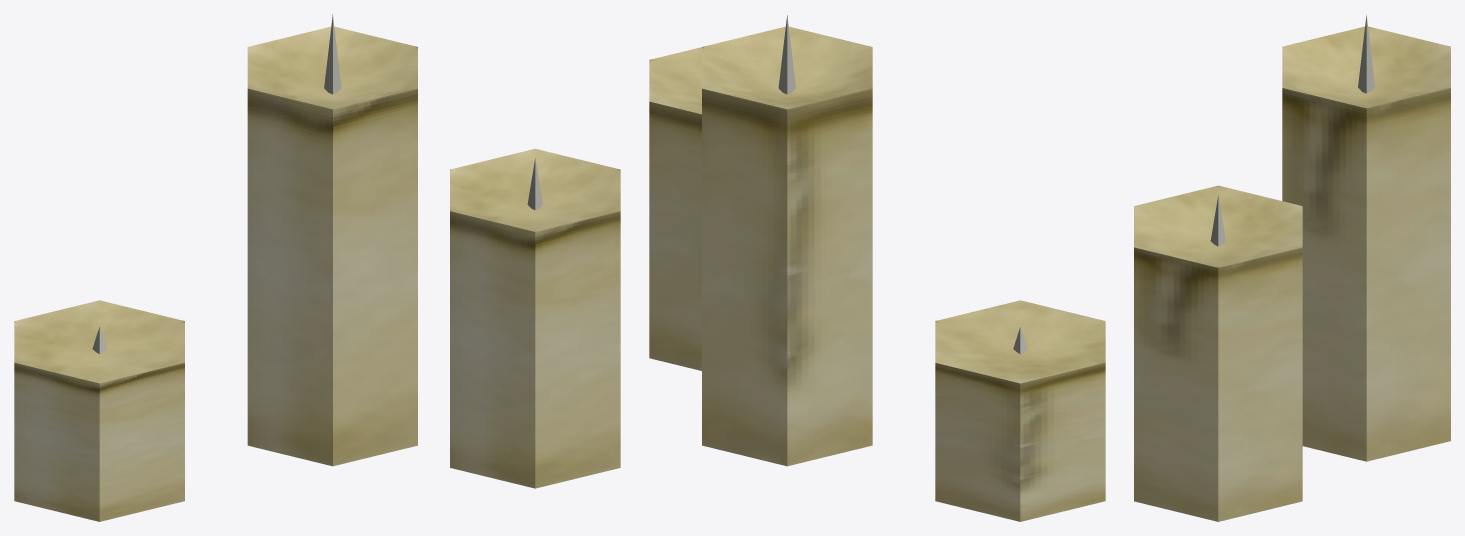
Rendered from candle.fbx.
3 renders of one model, left to right at view 1: azimuth 30°, elevation 25°; view 2: azimuth 150°, elevation 25°; view 3: azimuth 270°, elevation 25°, orthographic.
Parts seen in each view (by area): view 1: pCylinder1, pCylinder3, pCylinder2, pCone1; view 2: pCylinder1, pCylinder2, pCylinder3, pCone1; view 3: pCylinder1, pCylinder3, pCone1, pCone3.
Part boxes in pixels (x1,y1,x2,y2): pCylinder1: [247, 26, 417, 466]; pCylinder3: [450, 148, 620, 488]; pCylinder2: [14, 300, 184, 521]; pCone1: [324, 14, 341, 94]; pCylinder1: [702, 26, 872, 466]; pCylinder2: [935, 300, 1105, 521]; pCylinder3: [649, 47, 701, 370]; pCone1: [778, 15, 795, 94]; pCylinder1: [1282, 26, 1450, 461]; pCylinder3: [1134, 185, 1302, 521]; pCone1: [1358, 15, 1375, 93]; pCone3: [1210, 195, 1225, 246].
Size of the model in its own units: 6.23 by 4.6 by 3.25.
